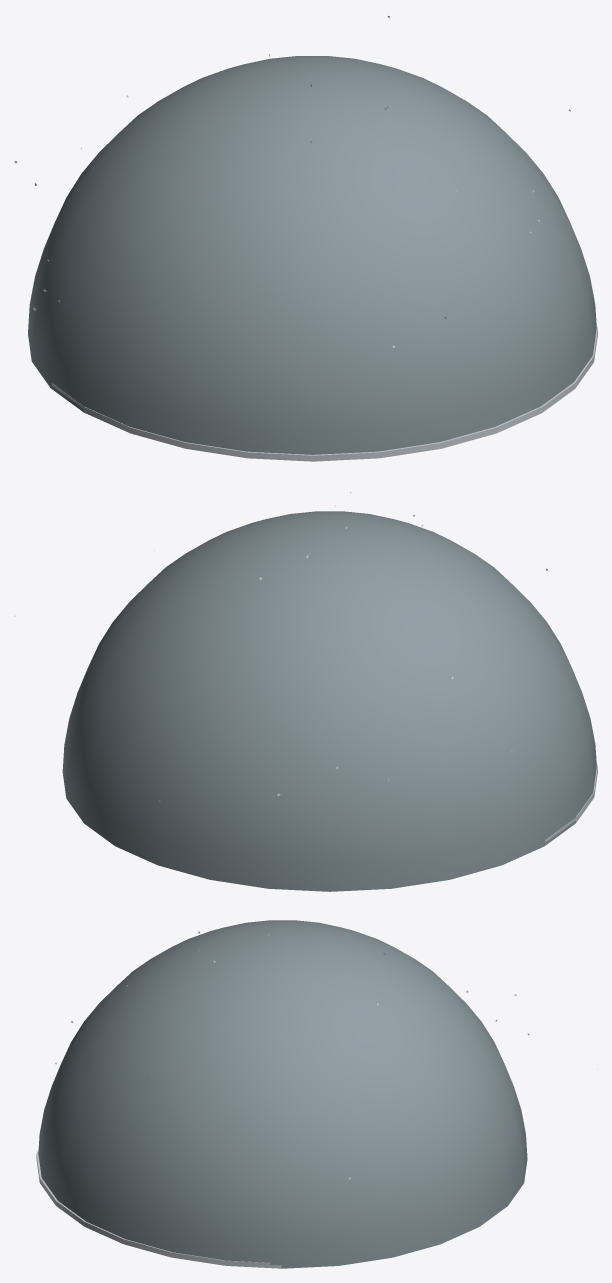
The model's file is awning.dae.
The picture shows the model from 3 angles, top to bottom: view 1: azimuth 30°, elevation 25°; view 2: azimuth 150°, elevation 25°; view 3: azimuth 270°, elevation 25°; orthographic projection. The views are drawn at different scales.
Visible parts, largest first — view 1: polySurface39, ground; view 2: polySurface39; view 3: polySurface39, ground.
Part boxes in pixels (box(x1,y1,x2,y2)): polySurface39: box(28, 56, 596, 454); ground: box(51, 326, 597, 461); polySurface39: box(62, 511, 596, 891); polySurface39: box(38, 920, 527, 1268); ground: box(36, 1149, 281, 1268).
Size of the model in its own units: 299 by 144 by 324.
